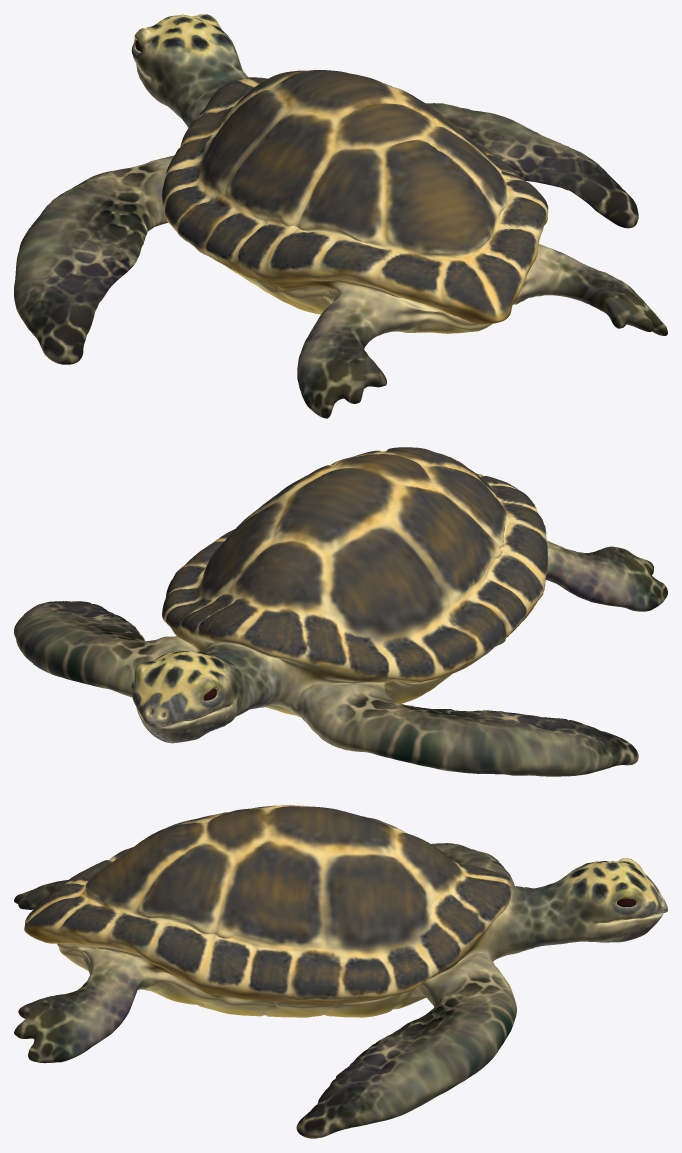
Rendered from turtle.obj.
The picture shows the model from 3 angles, top to bottom: view 1: azimuth 30°, elevation 25°; view 2: azimuth 150°, elevation 25°; view 3: azimuth 270°, elevation 25°; orthographic projection. The views are drawn at different scales.
Parts seen in each view (by area): view 1: body; view 2: body; view 3: body.
Part boxes in pixels (x1,y1,x2,y2): body: (14, 14, 667, 418); body: (14, 447, 667, 776); body: (14, 805, 667, 1138).
Bounding box in the file's own units: 355 × 121 × 367.
Materials: 2 (2 with a texture image).
